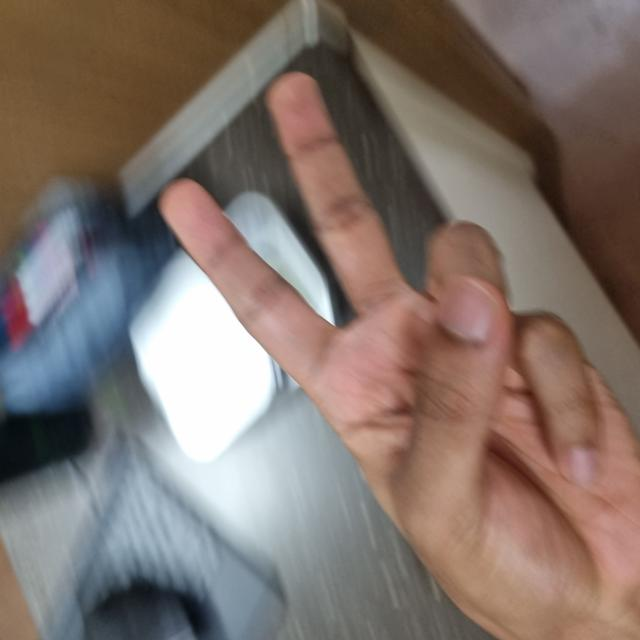Scissors: (1, 166, 556, 639)
